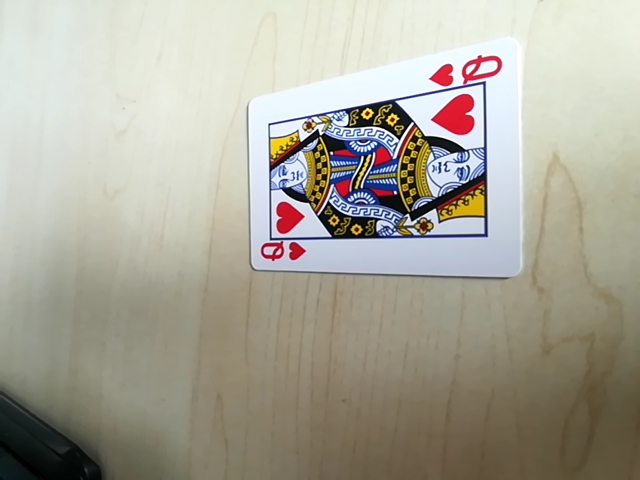hx q: (423, 52, 503, 91), (254, 239, 308, 268)
